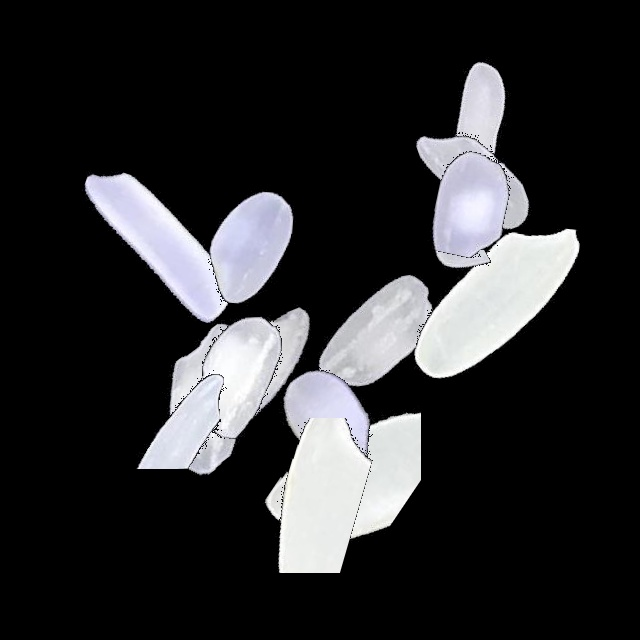Broken: (354, 89, 604, 258), (253, 329, 421, 579), (50, 312, 300, 469), (156, 418, 406, 573), (315, 224, 565, 323)
Full: (138, 240, 388, 490), (250, 205, 500, 455), (204, 296, 454, 546), (372, 179, 622, 429), (345, 6, 595, 256), (30, 118, 280, 368), (85, 277, 335, 527), (115, 251, 365, 501), (124, 123, 374, 373), (348, 54, 598, 304)
